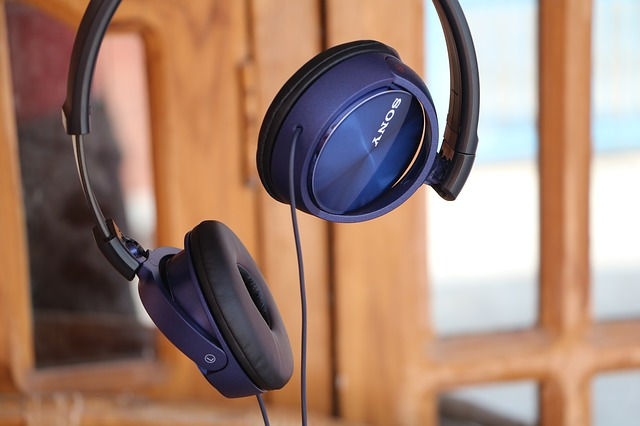headphones: (61, 1, 481, 400)
